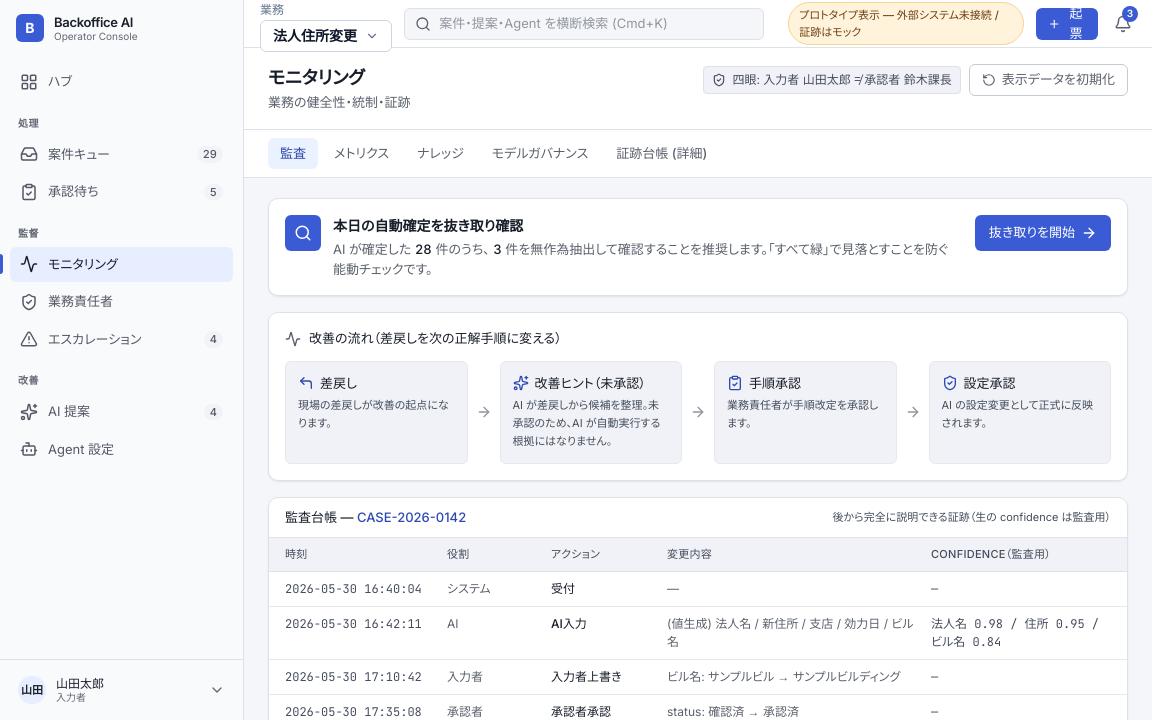
Scenario: P0-W3 reset: データ初期化が confirm Modal 経由 (即時 reset しない) › 「表示データを初期化」で confirm Modal が出る (直結 reset でない)
Click the button "表示データを初期化" at x=1048, y=80, box left=969, top=64, right=1128, bottom=96
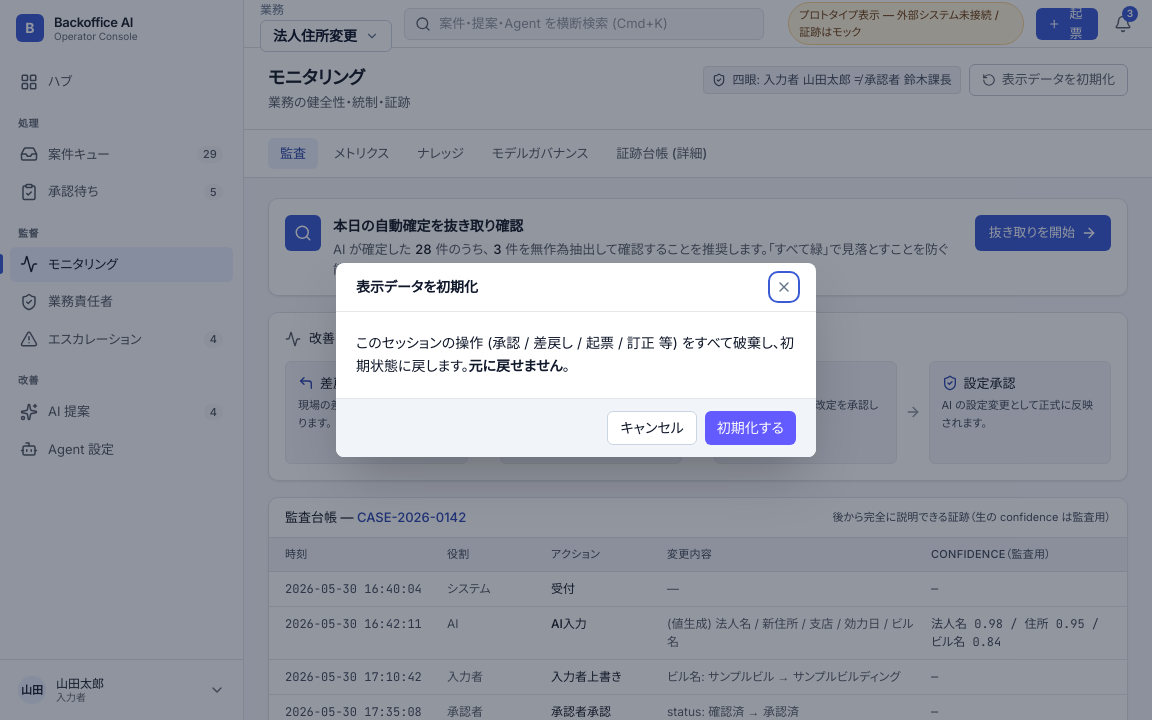
Expected: the button "初期化する" is shown, left=705, top=411, right=796, bottom=445
Expected: the text "元に戻せません" is shown, left=468, top=357, right=562, bottom=374
